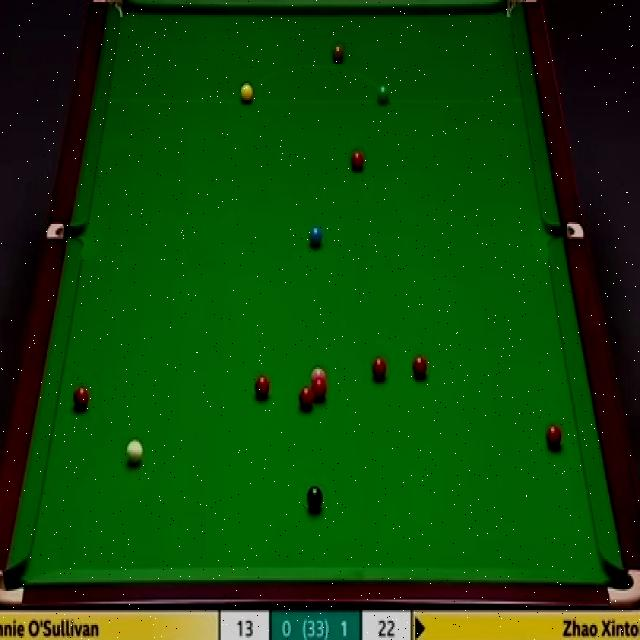black-ball: (306, 484, 326, 513)
blue-ball: (307, 224, 323, 248)
brown-ball: (332, 44, 344, 64)
green-ball: (376, 82, 390, 104)
pink-ball: (310, 367, 327, 382)
red-ball: (73, 383, 90, 412), (370, 356, 387, 381), (411, 354, 427, 380), (348, 149, 366, 172), (546, 426, 564, 449), (310, 379, 328, 401), (253, 376, 270, 399), (298, 388, 314, 409)
white-ball: (124, 439, 142, 467)
yellow-ball: (239, 81, 254, 103)
